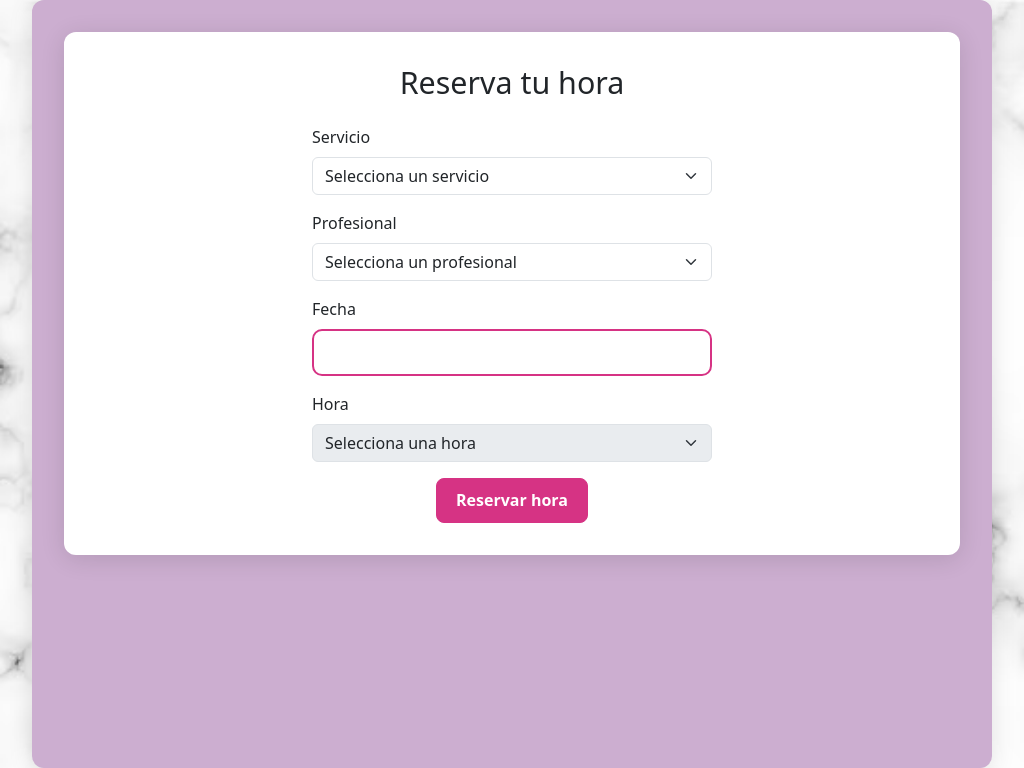
it: Reserva Page › muestra error si no hay usuario logueado
The image size is (1024, 768).
Select "Corte — $5.000" in the dropdown with test id "select-servicio" at (512, 176), box [312,156,712,194]
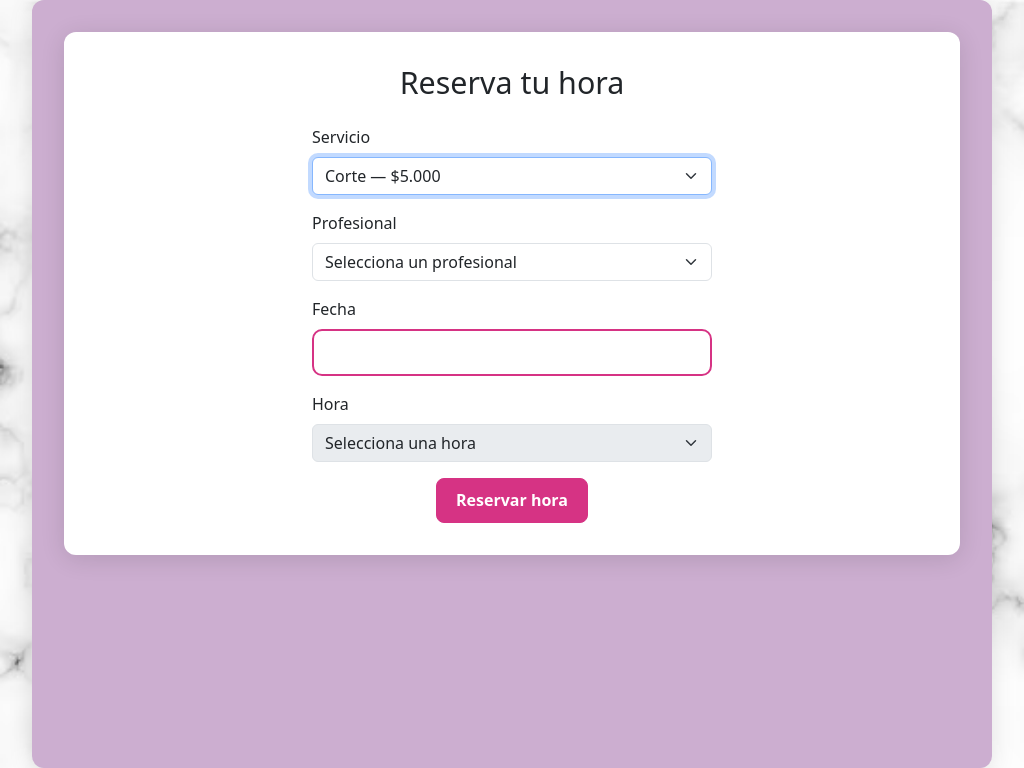
Select "Ana Pérez" in the dropdown with test id "select-trabajador" at (512, 262), box [312,242,712,280]
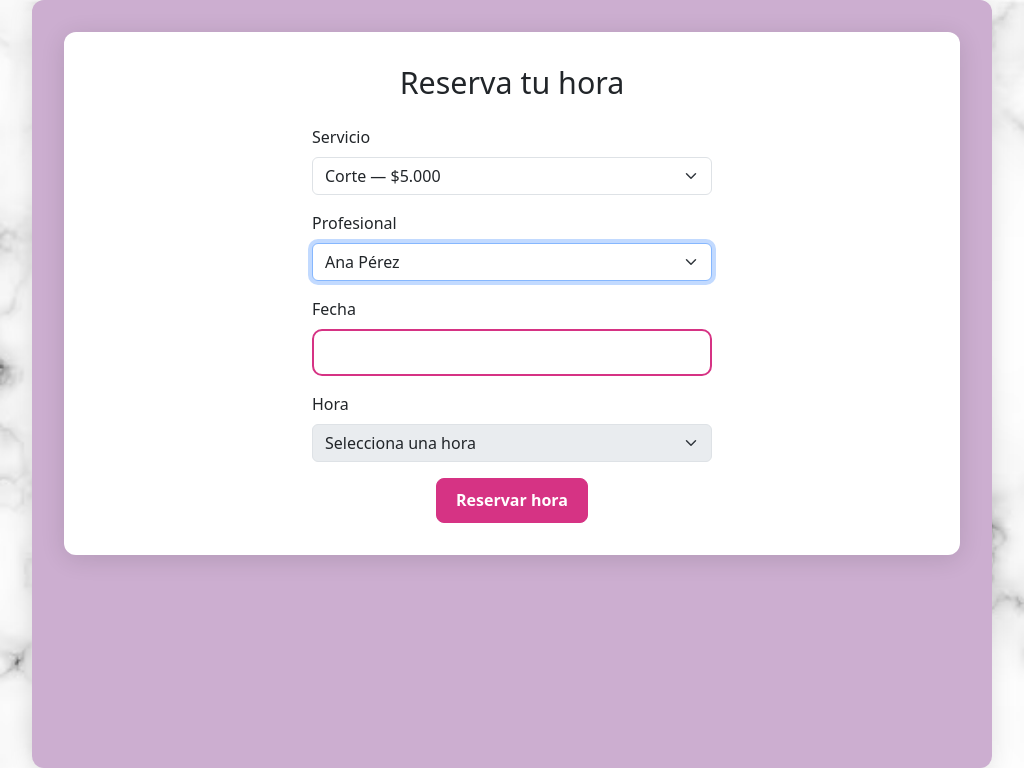
Type "2025-01-02" into the field with test id "input-fecha".
click(512, 352); type("2025-01-02")  # box [312,328,712,376]
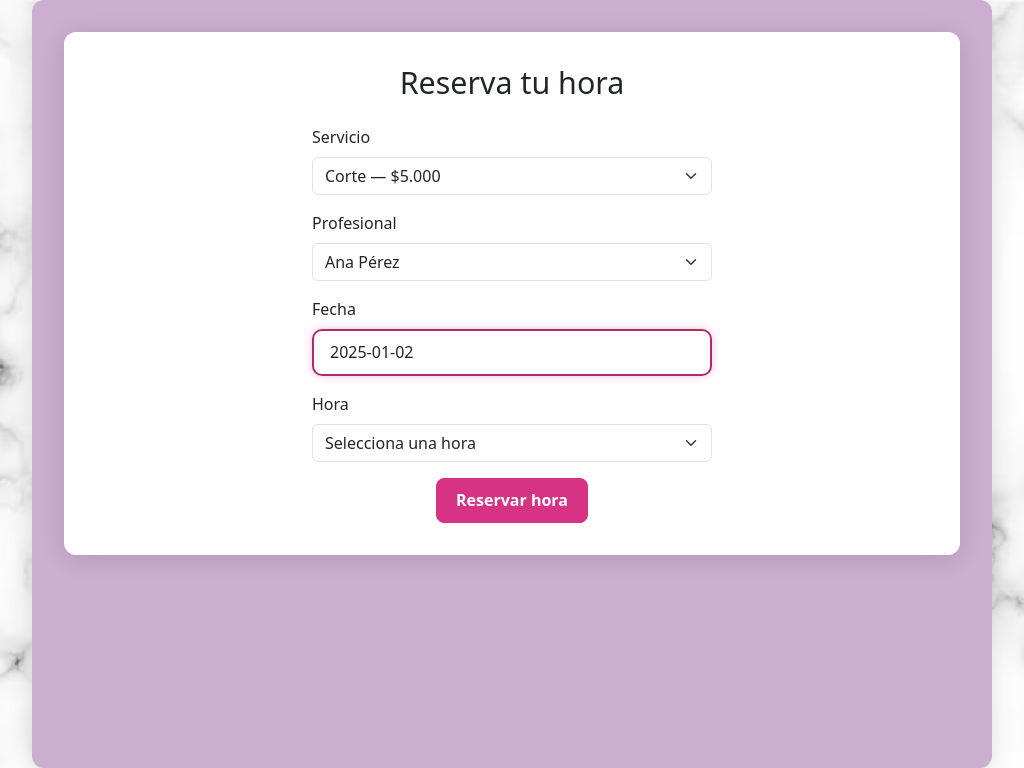
Select "10:00" in the dropdown with test id "select-hora" at (512, 443), box [312,424,712,462]
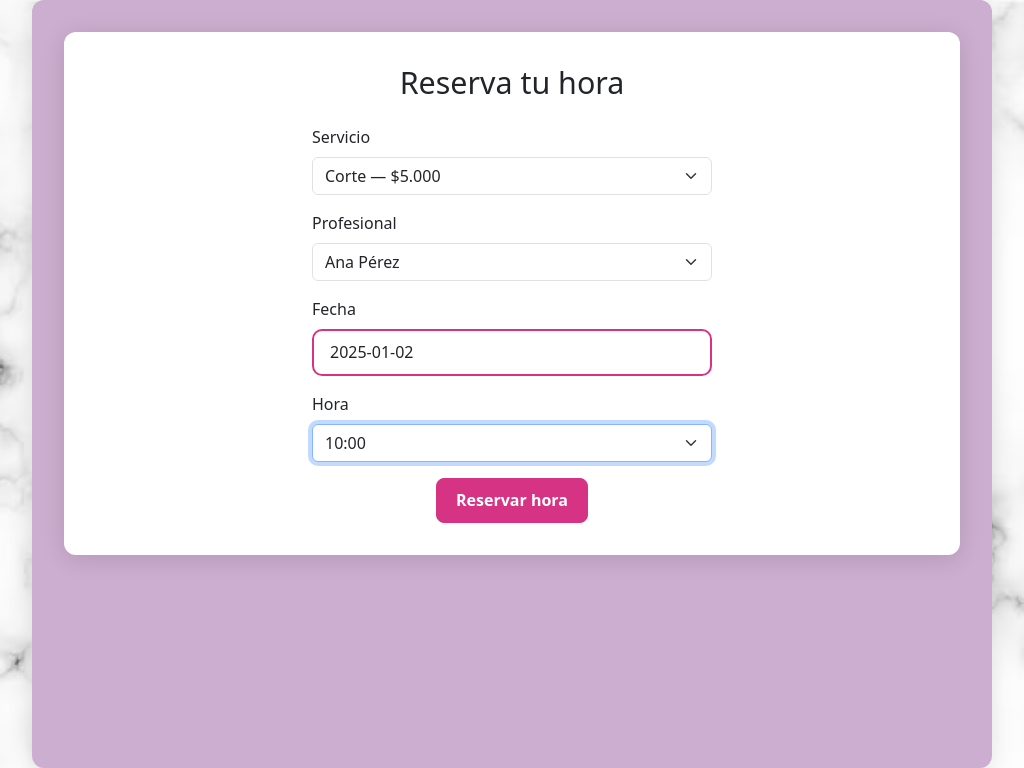
Click the button "Reservar hora".
click(512, 500)  # box [436,478,588,523]
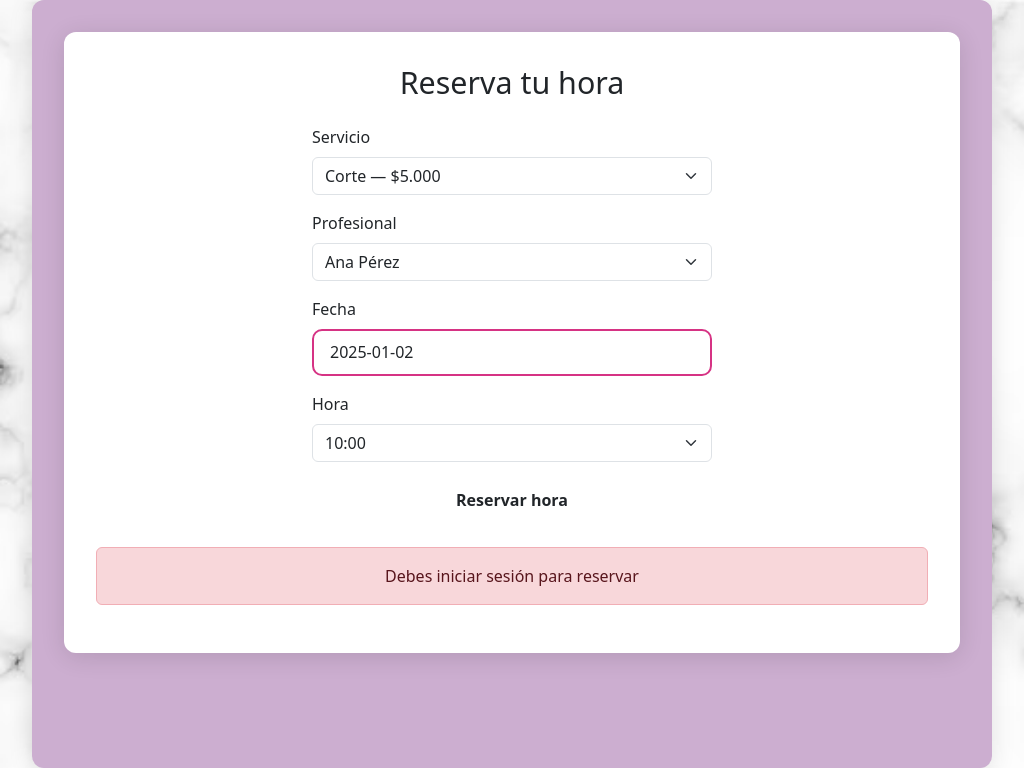
Now the text "Debes iniciar sesión para reservar" is shown, box [96,547,928,605]
